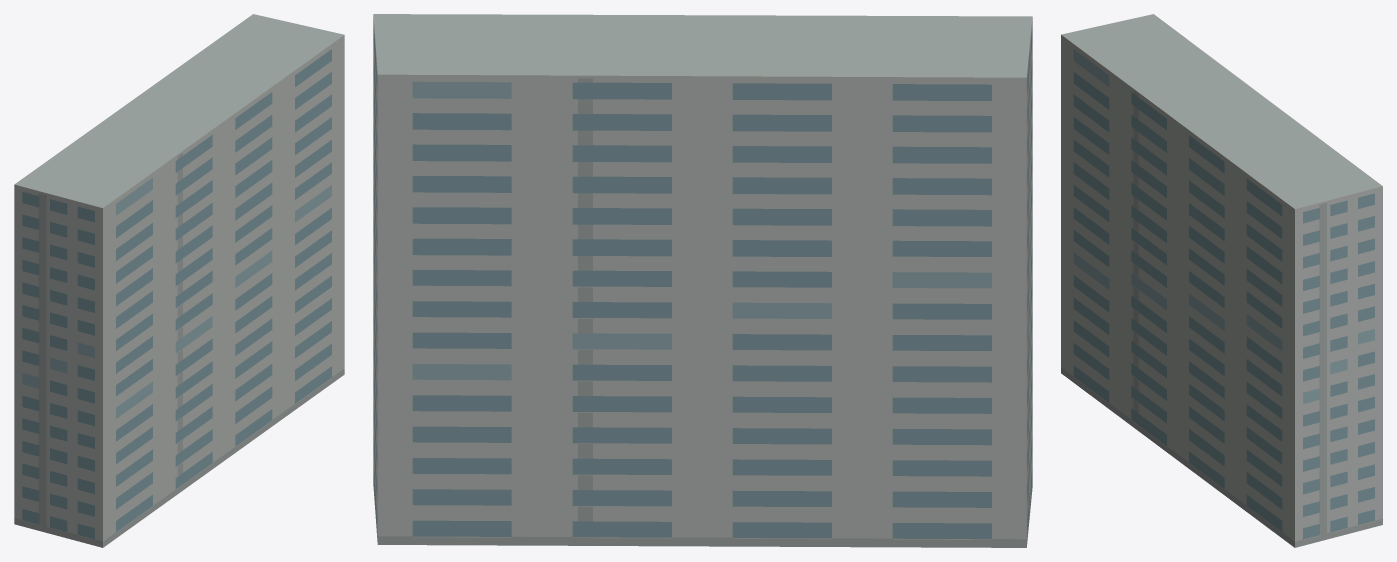
Rendered from residential-c14016fe-a68c-4f32-b40f-fd7eac70219f.glb.
The picture shows the model from 3 angles, left to right: view 1: azimuth 30°, elevation 25°; view 2: azimuth 150°, elevation 25°; view 3: azimuth 270°, elevation 25°; orthographic projection. The views are drawn at different scales.
Visible parts, largest first — view 1: residential-c14016fe-a68c-4f32-b40f-fd7eac70219f.tmp; view 2: residential-c14016fe-a68c-4f32-b40f-fd7eac70219f.tmp; view 3: residential-c14016fe-a68c-4f32-b40f-fd7eac70219f.tmp.
Boxes of the visible parts, x1=… form: residential-c14016fe-a68c-4f32-b40f-fd7eac70219f.tmp: x1=14, y1=14, x2=344, y2=547; residential-c14016fe-a68c-4f32-b40f-fd7eac70219f.tmp: x1=373, y1=14, x2=1032, y2=547; residential-c14016fe-a68c-4f32-b40f-fd7eac70219f.tmp: x1=1061, y1=14, x2=1382, y2=547.
Size of the model in its own units: 51.92 by 42 by 36.18.
